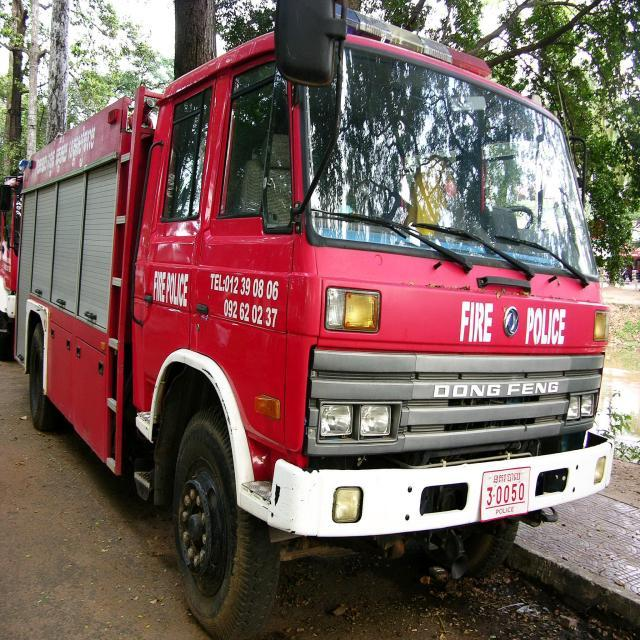Police: (493, 471, 521, 484)
